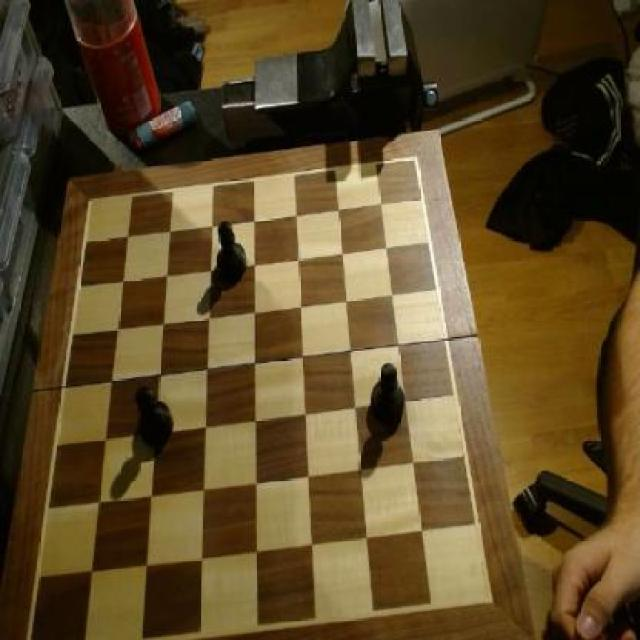black-knight: (132, 383, 176, 452), (370, 363, 406, 435), (216, 218, 250, 284)
